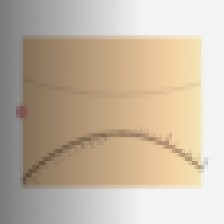pinguecula_lesion: (33, 89, 84, 129)
